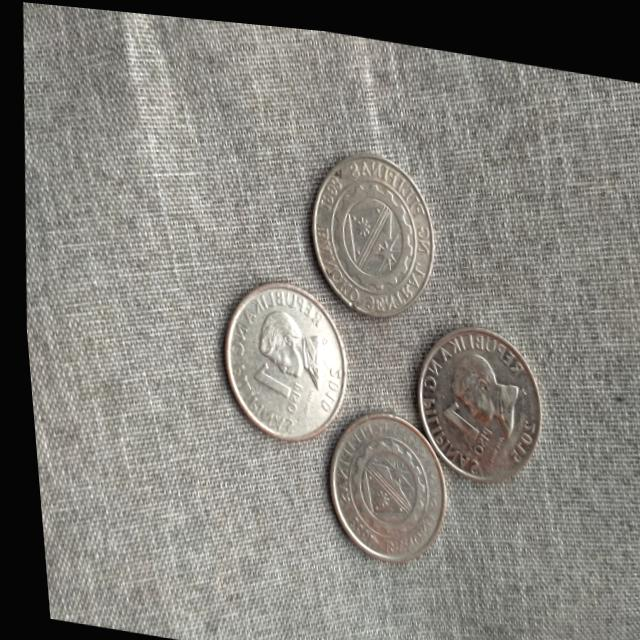1_Old_Back: (311, 156, 424, 299), (327, 410, 430, 546)
